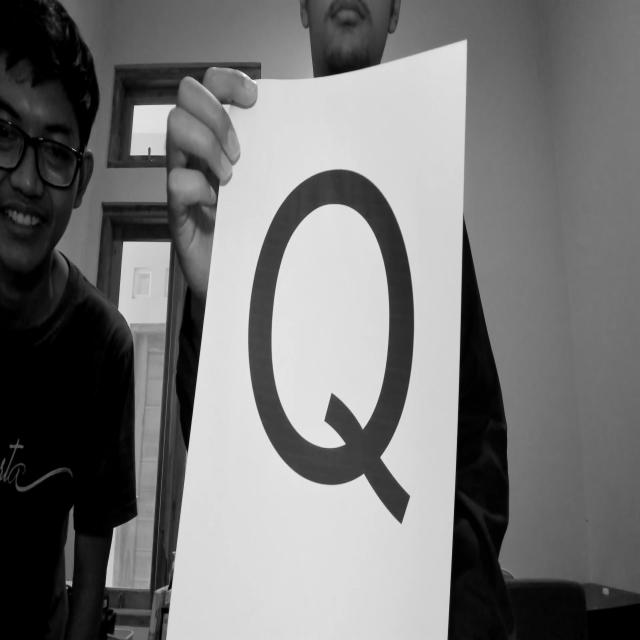q: (232, 153, 425, 545)
